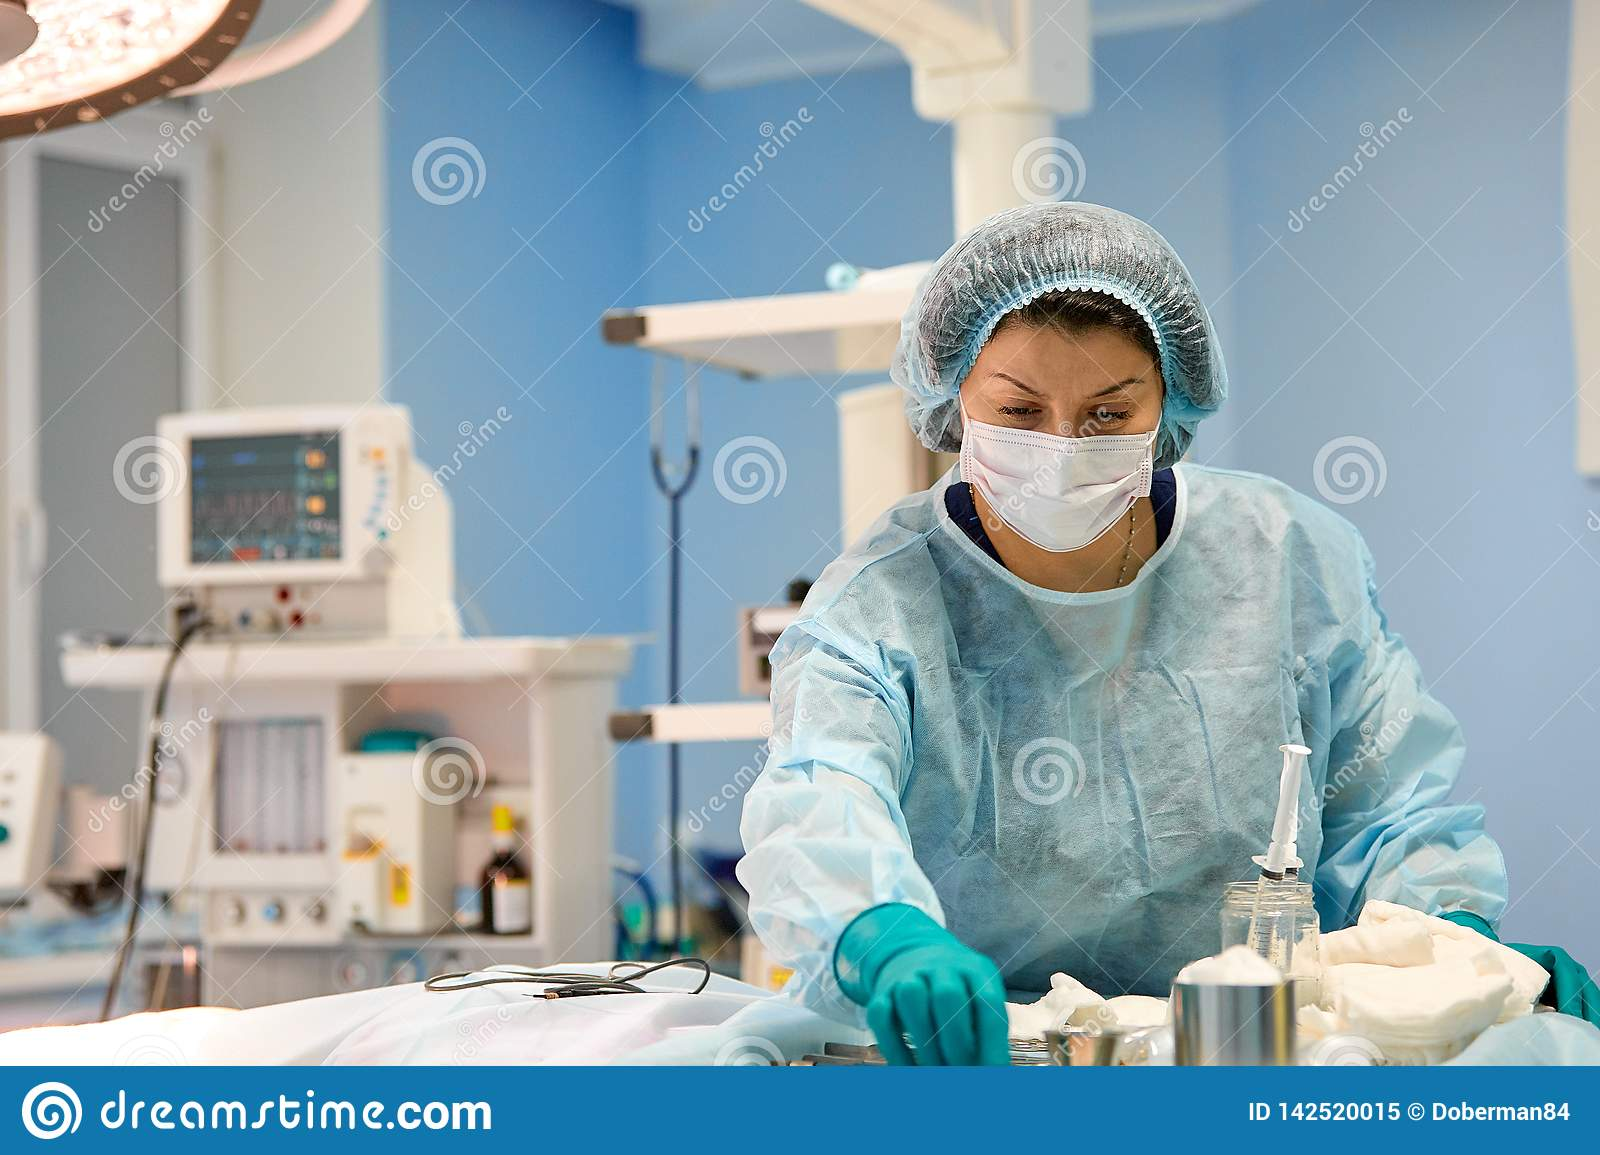mask: (950, 409, 1161, 558)
